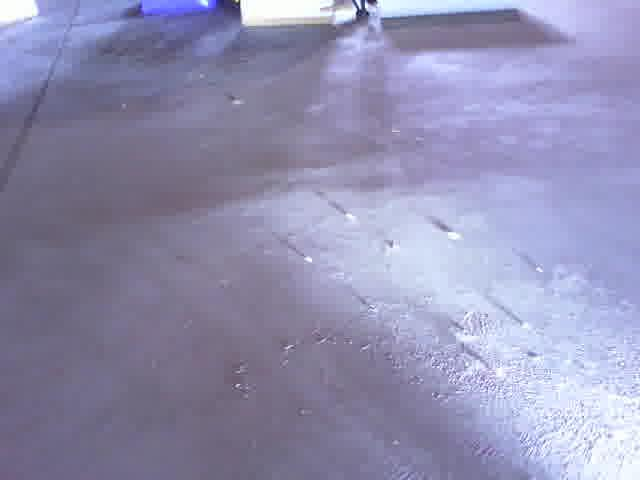coral: (376, 0, 520, 14)
